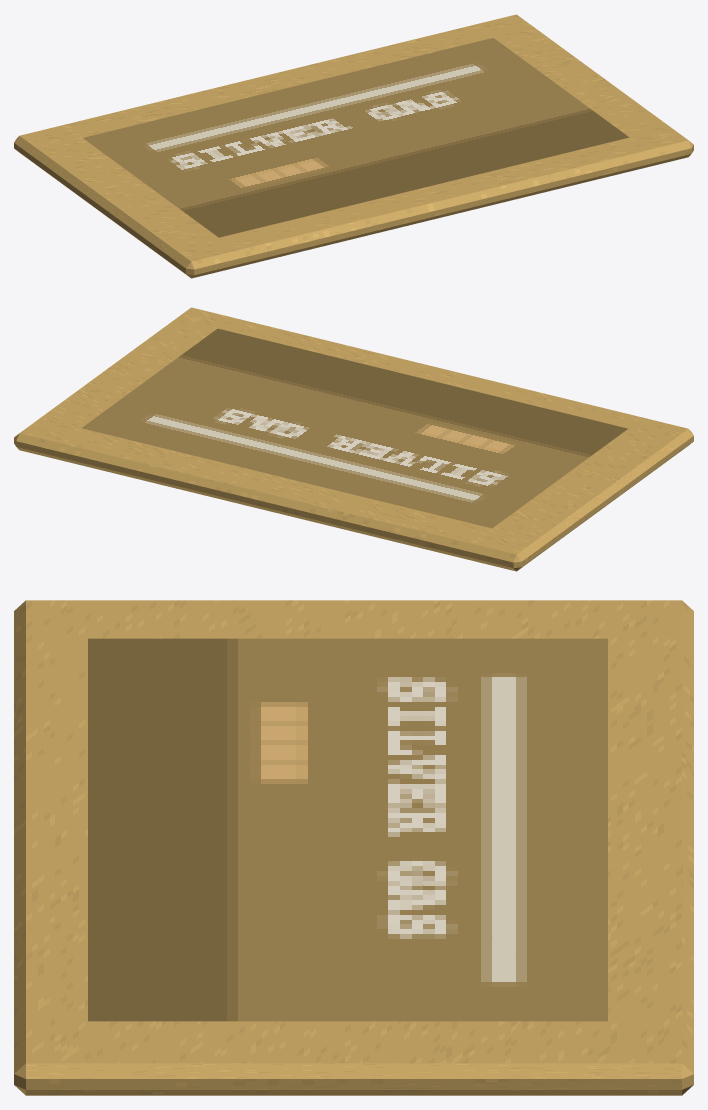
Rendered from gasdiscount_silver.glb.
3 renders of one model, top to bottom at view 1: azimuth 30°, elevation 25°; view 2: azimuth 150°, elevation 25°; view 3: azimuth 270°, elevation 25°, orthographic. The views are drawn at different scales.
Parts seen in each view (by area): view 1: block_card printing, block_card or folded wallet; view 2: block_card printing, block_card or folded wallet; view 3: block_card printing, block_card or folded wallet.
Part boxes in pixels (x1,y1,x2,y2): block_card printing: (83, 38, 629, 237); block_card or folded wallet: (14, 14, 693, 278); block_card printing: (82, 328, 627, 528); block_card or folded wallet: (14, 307, 693, 571); block_card printing: (88, 638, 607, 1021); block_card or folded wallet: (14, 600, 693, 1095).
Size of the model in its own units: 0.084 by 0.00288 by 0.051.
Materials: 1 (1 with a texture image).
